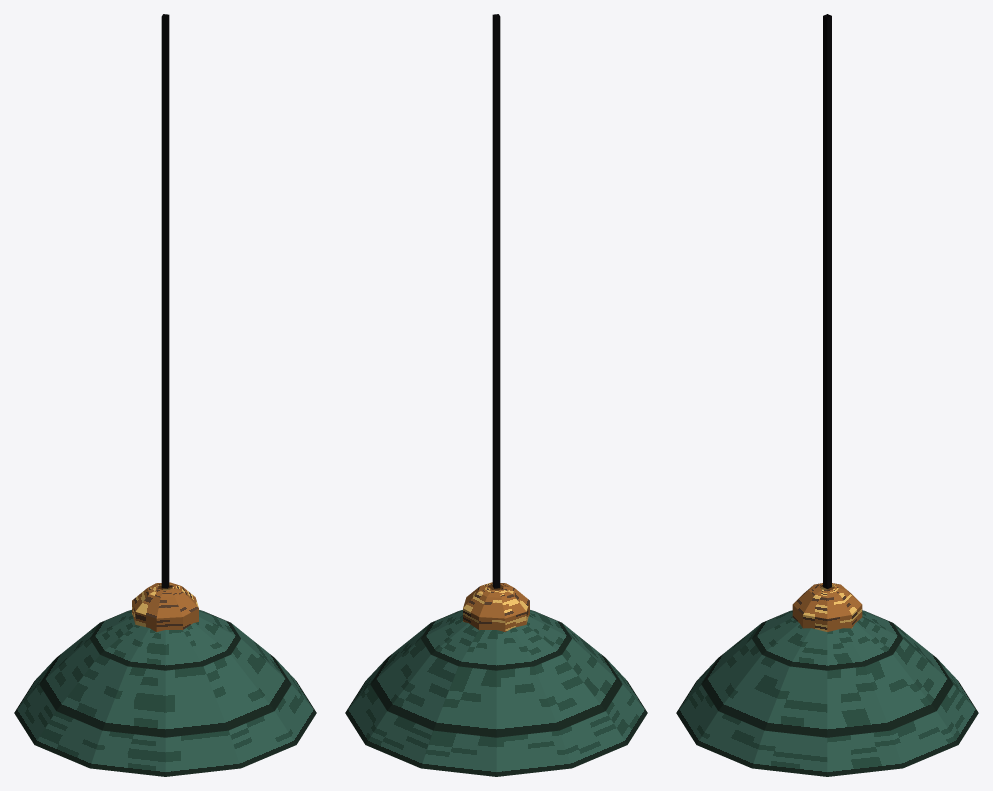
Rendered from lamp.glb.
3 renders of one model, left to right at view 1: azimuth 30°, elevation 25°; view 2: azimuth 150°, elevation 25°; view 3: azimuth 270°, elevation 25°, orthographic.
Parts seen in each view (by area): view 1: LampBody; view 2: LampBody; view 3: LampBody.
Part boxes in pixels (x1,y1,x2,y2): LampBody: (14, 14, 316, 776); LampBody: (345, 14, 647, 776); LampBody: (676, 14, 978, 776).
Bounding box in the file's own units: 0.48 × 1.22 × 0.48.
2 materials, 2 textured.
